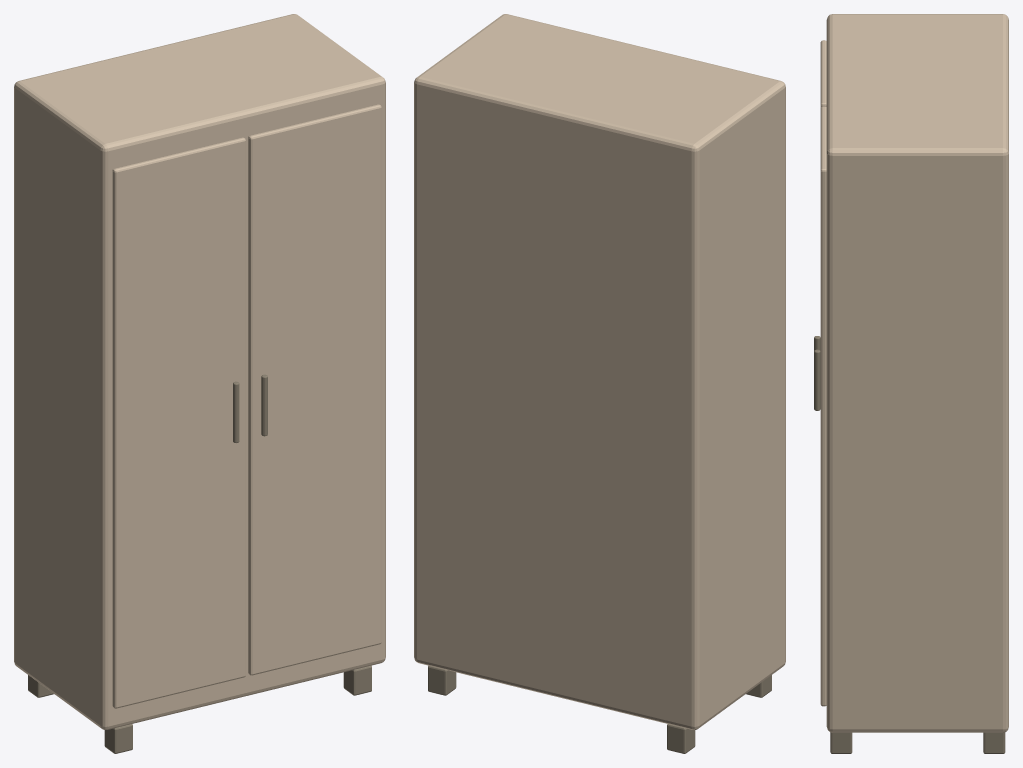
Rendered from modern_office_kitchenette_asset_board_45.glb.
The picture shows the model from 3 angles, left to right: view 1: azimuth 30°, elevation 25°; view 2: azimuth 150°, elevation 25°; view 3: azimuth 270°, elevation 25°; orthographic projection.
Parts seen in each view (by area): view 1: Cube; view 2: Cube; view 3: Cube.
Boxes of the visible parts, bbox=[...] form: Cube: bbox=[14, 14, 385, 753]; Cube: bbox=[414, 14, 785, 753]; Cube: bbox=[814, 14, 1008, 753].
Bounding box in the file's own units: 0.9 × 1.85 × 0.535.
